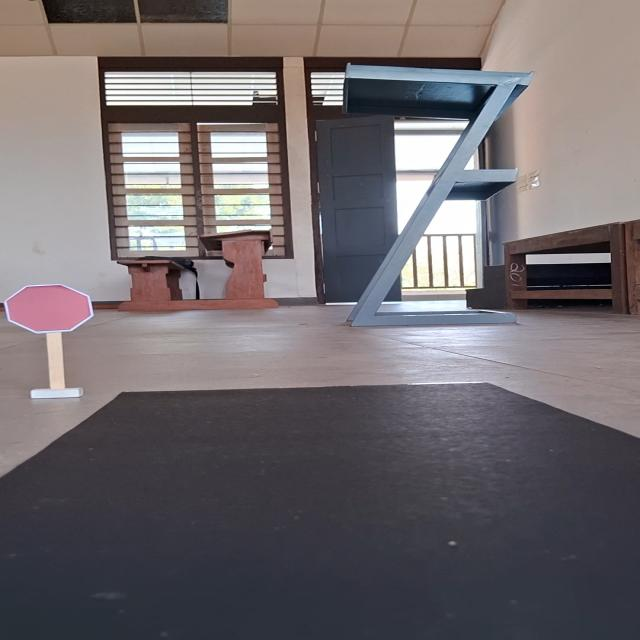Stop: (3, 282, 96, 334)
